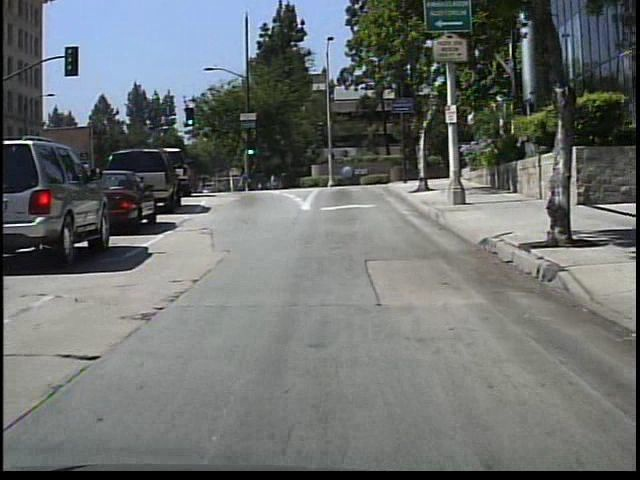person: (265, 167, 281, 193), (235, 168, 250, 193)
